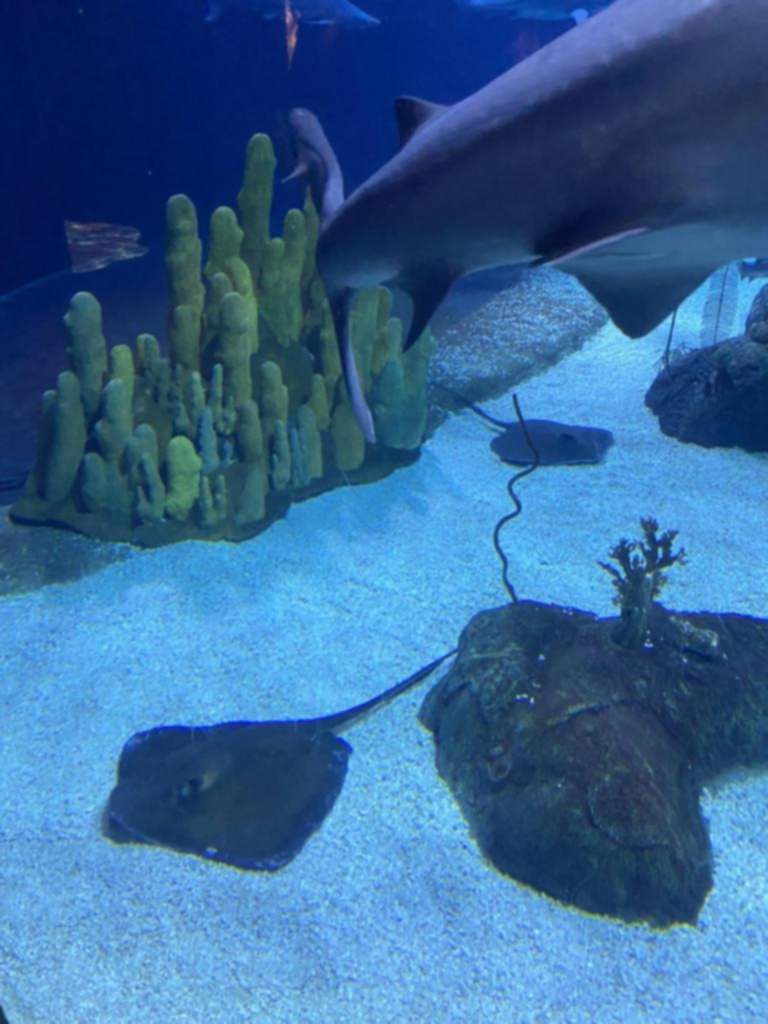shark: (300, 0, 768, 450), (201, 0, 394, 34)
stingray: (96, 704, 350, 882), (486, 416, 628, 476)
